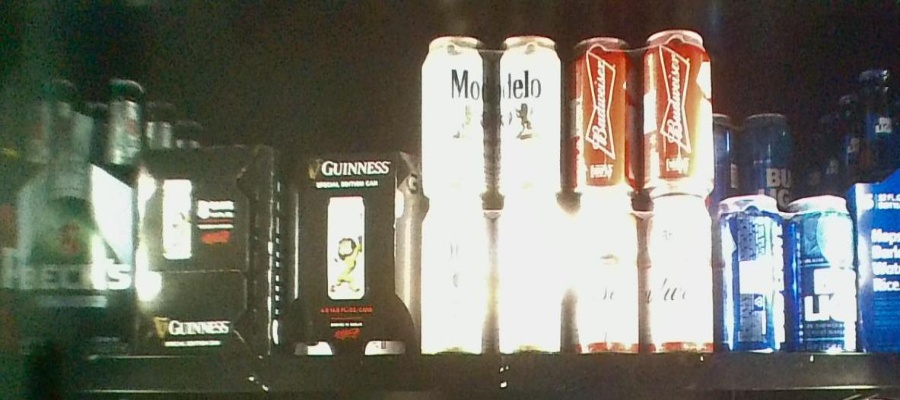bottle: (567, 31, 713, 352), (419, 34, 562, 356), (134, 150, 278, 356), (285, 152, 418, 359), (712, 192, 859, 354)
